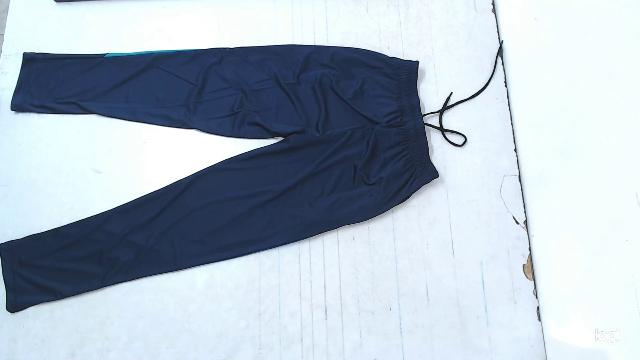new-garment: (0, 45, 438, 312)
